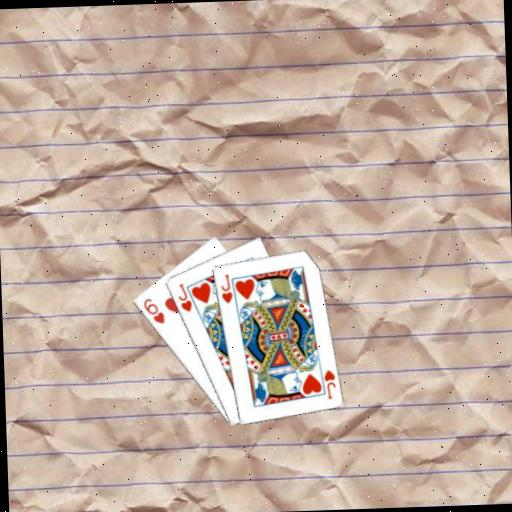6H: (140, 294, 166, 325)
JH: (174, 280, 193, 313), (217, 270, 234, 304), (320, 366, 337, 400)
